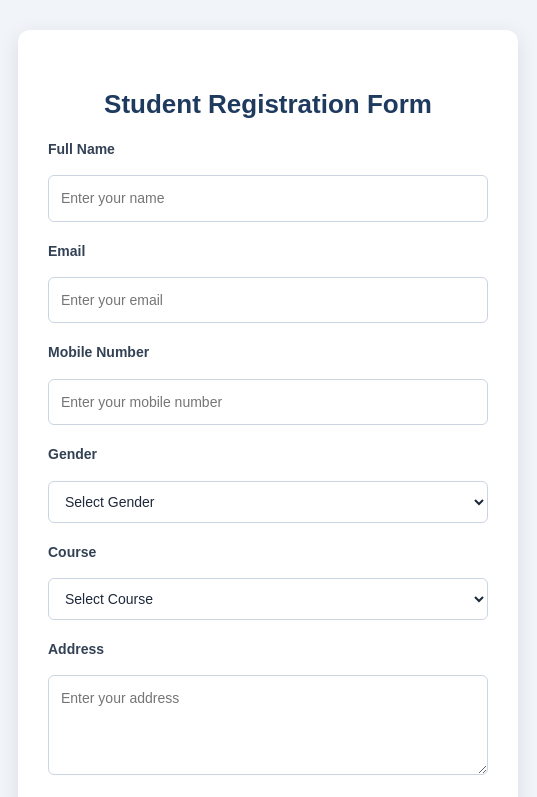
Test: StudentForm Component › should display an error when student registration fails
In the field with placeholder "Enter your name": (268, 198) 48,175 -> 488,222, type "Test Student"
In the field with placeholder "Enter your email": (268, 300) 48,277 -> 488,323, type "teststudent@example.com"
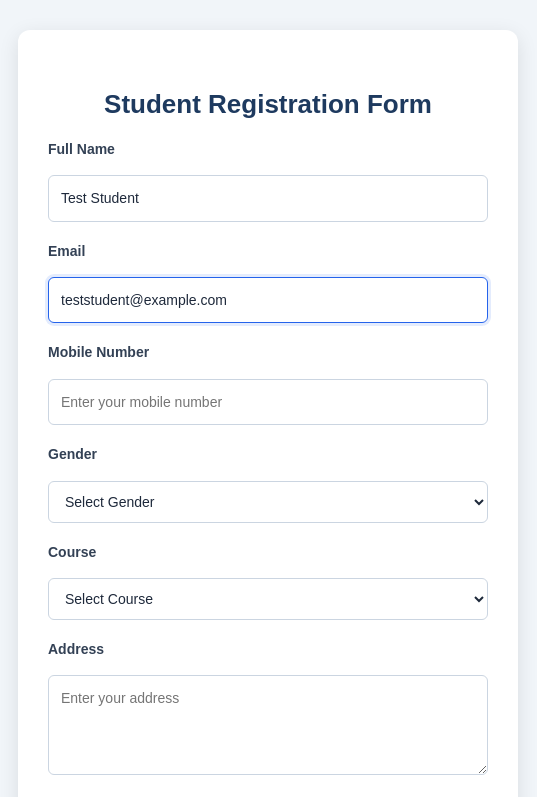
In the field with placeholder "Enter your mobile number": (268, 402) 48,379 -> 488,425, type "9876543210"
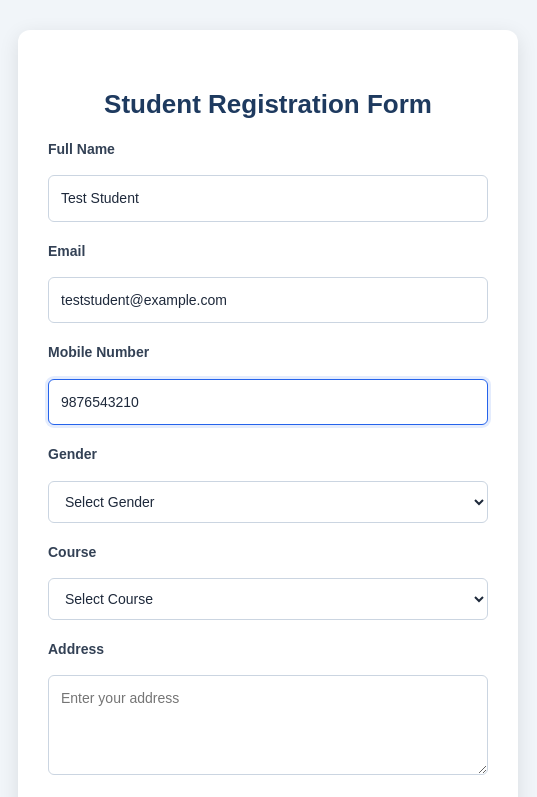
Select "Male" in the dropdown labelled "Gender": (268, 502) 48,480 -> 488,522
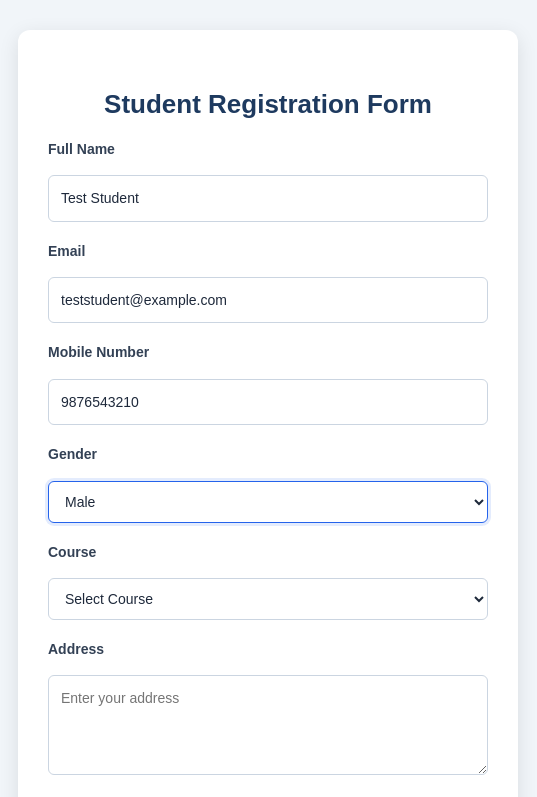
Select "MERN Stack Development (MERN101)" in the dropdown labelled "Course": (268, 599) 48,578 -> 488,620
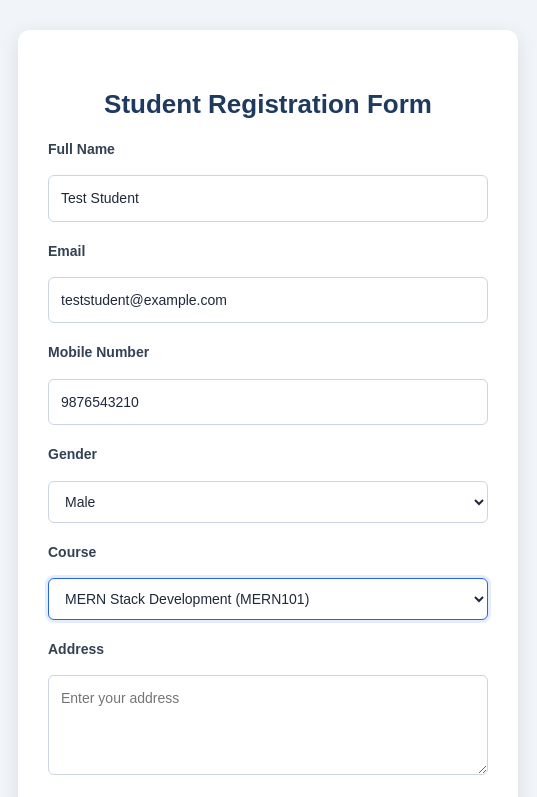
In the text box with placeholder "Enter your address": (268, 725) 48,675 -> 488,775, type "Hyderabad Telangana"
(page scrolled)
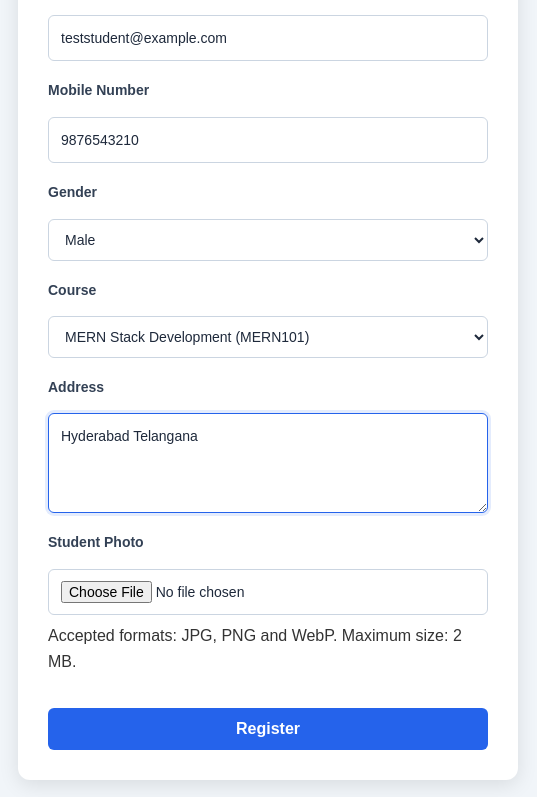
Click the button "Register": (268, 729) 48,708 -> 488,750
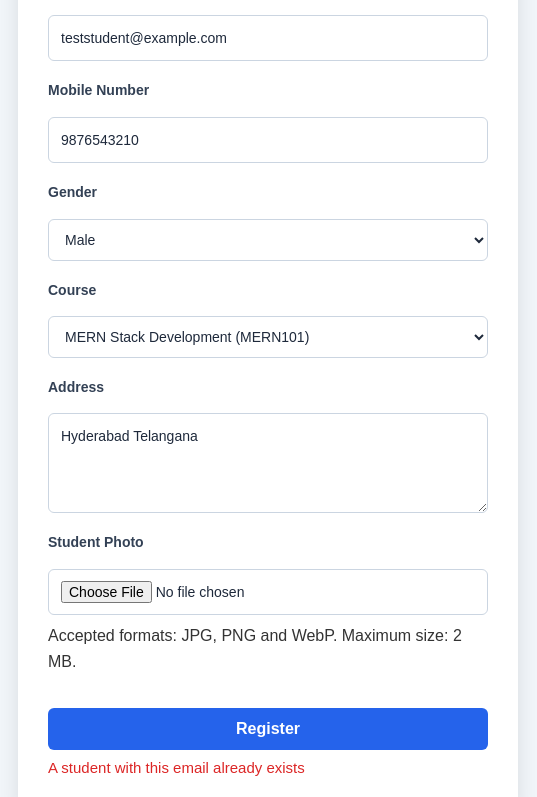
Result: the text "A student with this email already exists" is shown at 48,759 -> 305,776
